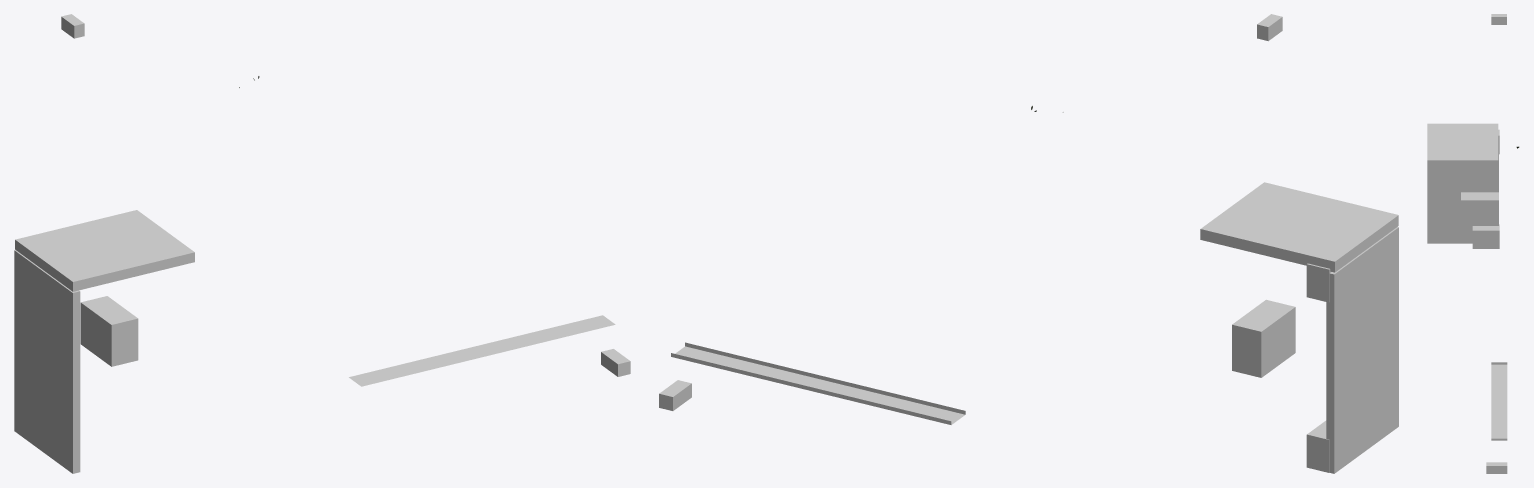
3 renders of one model, left to right at view 1: azimuth 30°, elevation 25°; view 2: azimuth 150°, elevation 25°; view 3: azimuth 270°, elevation 25°, orthographic. The views are drawn at different scales.
Parts seen in each view (by area): view 1: Cube.004, Cube.003, Cube.014, Cube; view 2: Cube.004, Cube.003, Cube.014, Cube, Cube.001, Cube.002; view 3: Cube.004, Cube.003, Cube.014, Cube, Cube.001, Cube.015, Cube.016.
Boxes of the visible parts, x1,y1,x2,y2 form: Cube.004: [14, 250, 80, 473]; Cube.003: [15, 210, 194, 291]; Cube.014: [349, 315, 615, 386]; Cube: [80, 296, 138, 366]; Cube.004: [1326, 227, 1398, 473]; Cube.003: [1200, 182, 1398, 272]; Cube.014: [671, 342, 965, 424]; Cube: [1232, 299, 1295, 377]; Cube.001: [1306, 420, 1329, 472]; Cube.002: [1306, 263, 1330, 302]; Cube.004: [1427, 154, 1498, 243]; Cube.003: [1427, 123, 1498, 166]; Cube.014: [1491, 362, 1507, 440]; Cube: [1461, 192, 1498, 225]; Cube.001: [1472, 224, 1499, 248]; Cube.015: [1486, 462, 1507, 473]; Cube.016: [1491, 14, 1506, 24].
Size of the model in its own units: 54.09 by 40.95 by 11.65.
1 material, 1 textured.
